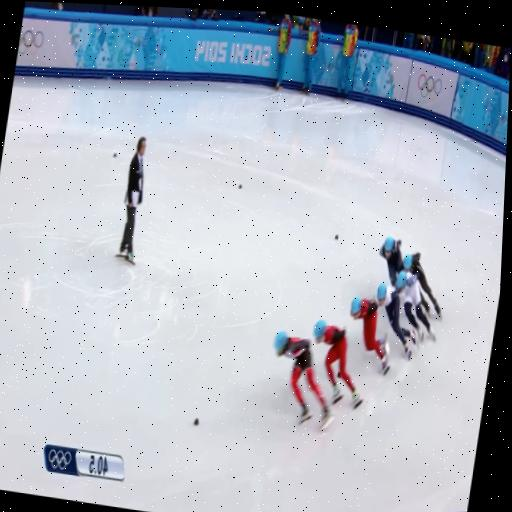Skater: (273, 331, 331, 429), (313, 320, 361, 408), (374, 283, 418, 359), (349, 298, 389, 375), (395, 271, 434, 340), (402, 253, 440, 318), (379, 237, 408, 286)
